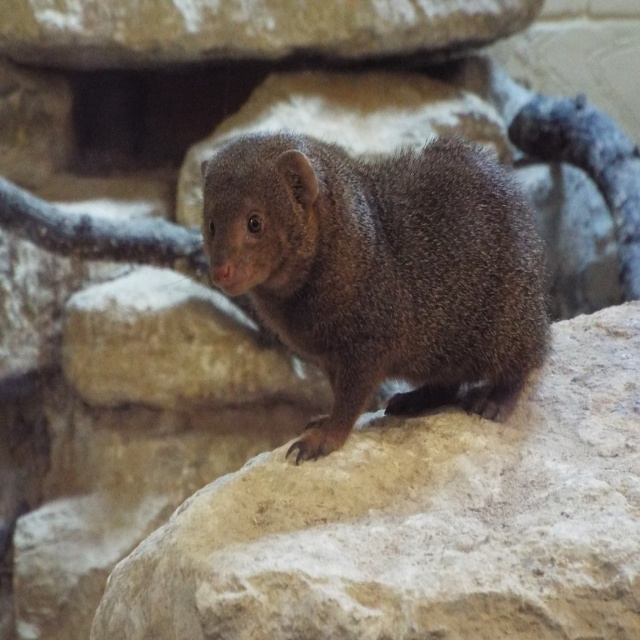Otter: (198, 129, 561, 466)
